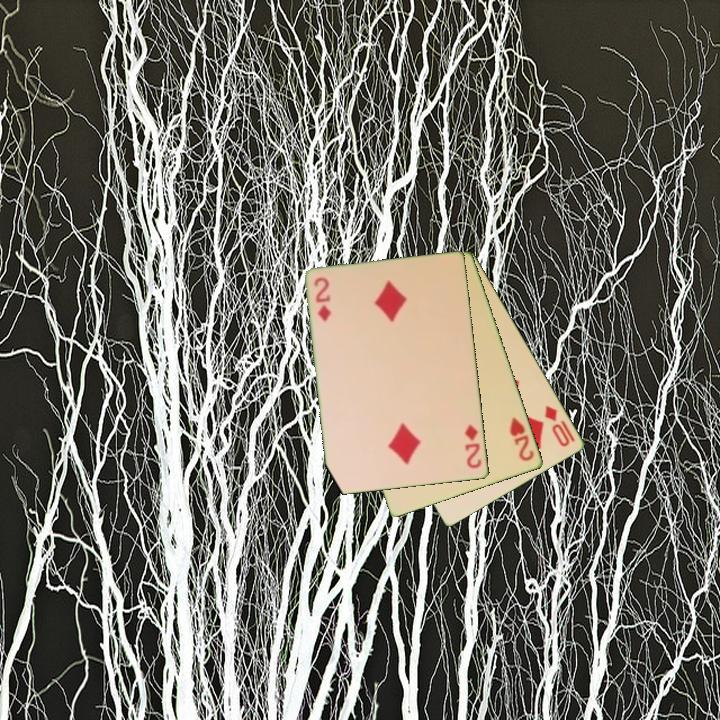10d: (541, 402, 573, 450)
2d: (461, 421, 485, 472), (311, 274, 334, 324)
2h: (507, 414, 537, 464)
